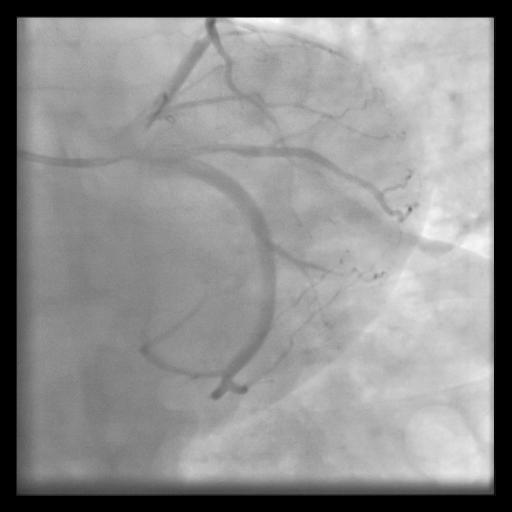Stenosis: (199, 139, 236, 155)
